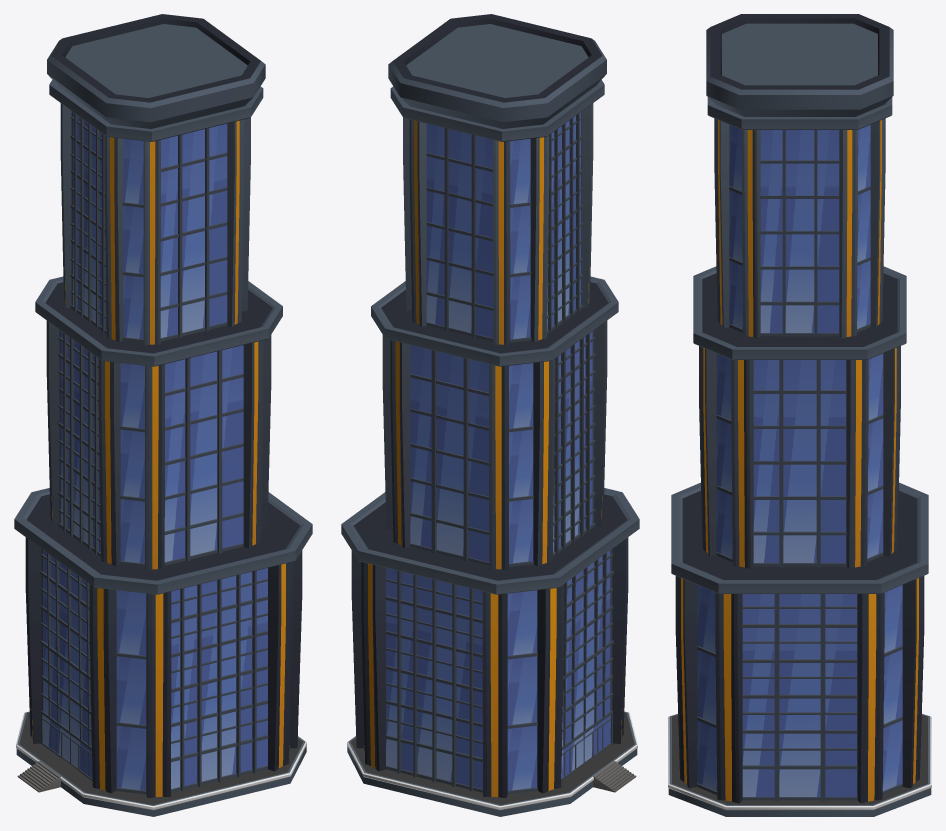
Rendered from Building_7_1_D.fbx.
The picture shows the model from 3 angles, left to right: view 1: azimuth 30°, elevation 25°; view 2: azimuth 150°, elevation 25°; view 3: azimuth 270°, elevation 25°; orthographic projection.
Parts seen in each view (by area): view 1: Building_7_1_D; view 2: Building_7_1_D; view 3: Building_7_1_D.
Part boxes in pixels (bbox=[...]): Building_7_1_D: bbox=[14, 14, 312, 816]; Building_7_1_D: bbox=[341, 14, 639, 816]; Building_7_1_D: bbox=[668, 14, 931, 816].
Size of the model in its own units: 2520 by 6846 by 2311.
